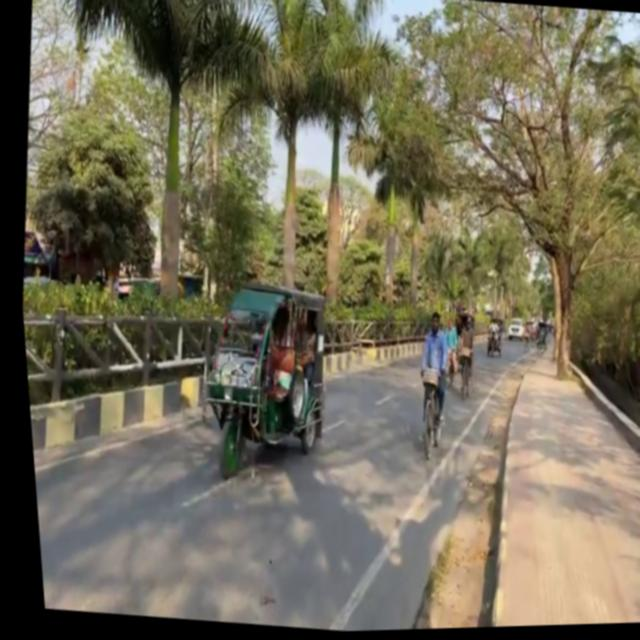Construction-barrier: (443, 341, 550, 630), (447, 408, 516, 630), (550, 359, 640, 484), (312, 326, 422, 392)
Fallen-tree: (477, 327, 498, 360), (527, 324, 545, 352)
Garbage-bin: (405, 313, 453, 428)
Pothole: (460, 331, 640, 630)
Traffic-cone: (181, 275, 334, 491)
